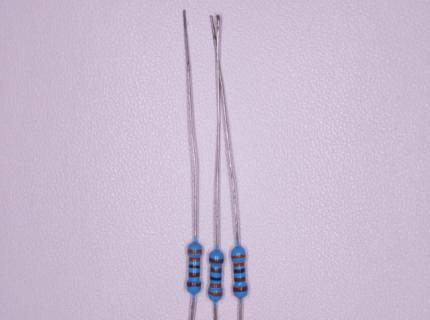Black band: (210, 276, 221, 281), (234, 268, 245, 273), (189, 265, 200, 268)
Brown band: (233, 286, 248, 292), (209, 258, 223, 263), (234, 276, 245, 282), (187, 283, 201, 287), (211, 268, 222, 273), (189, 273, 200, 277)
Orange band: (208, 291, 222, 296), (187, 249, 202, 253), (189, 257, 200, 262), (210, 283, 221, 288), (232, 255, 245, 259), (234, 262, 244, 267)
